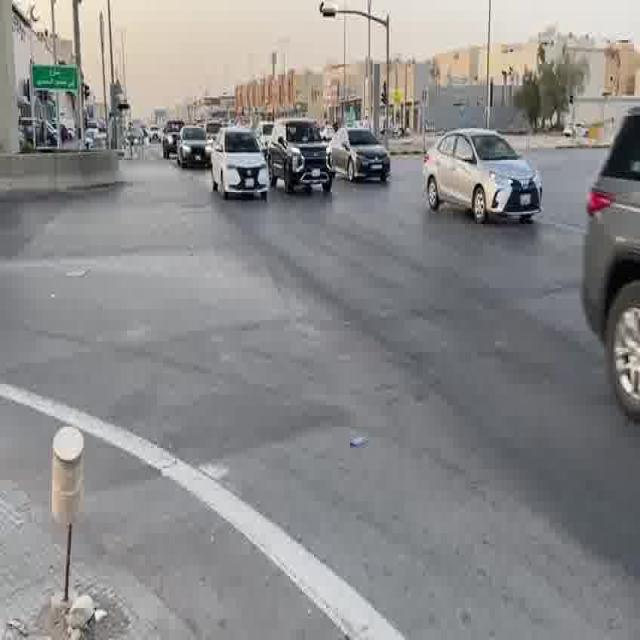bus: (425, 129, 546, 225), (262, 116, 333, 194), (209, 127, 271, 201), (338, 129, 392, 185), (177, 127, 209, 170), (160, 118, 184, 158)
car: (179, 209, 640, 640), (425, 129, 546, 225), (262, 116, 333, 194), (209, 127, 271, 201), (338, 129, 392, 185), (177, 127, 209, 170), (160, 118, 184, 158)
lanes: (179, 209, 640, 640), (226, 209, 639, 634)
lanes2: (226, 209, 639, 634), (260, 205, 640, 474)
lanes3: (260, 205, 640, 474), (286, 201, 640, 404)
lanes4: (286, 201, 640, 404), (327, 192, 640, 313)
lanes5: (327, 192, 640, 313)
